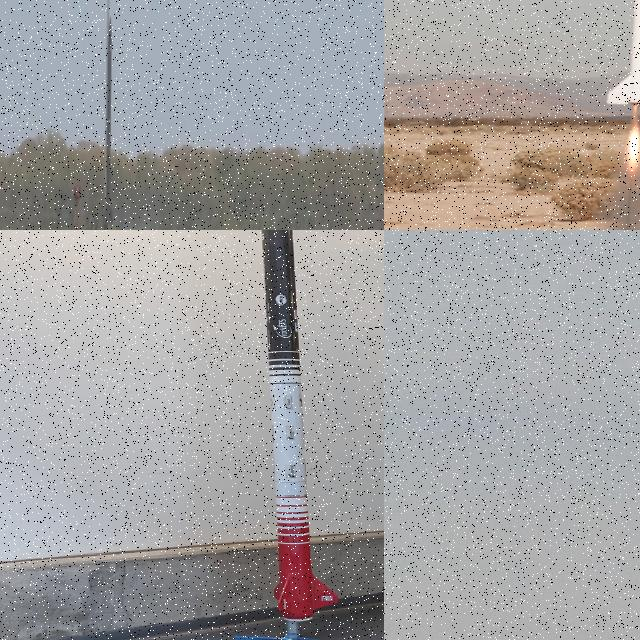Rocket: (261, 230, 338, 621), (605, 0, 640, 107), (104, 17, 113, 230)
